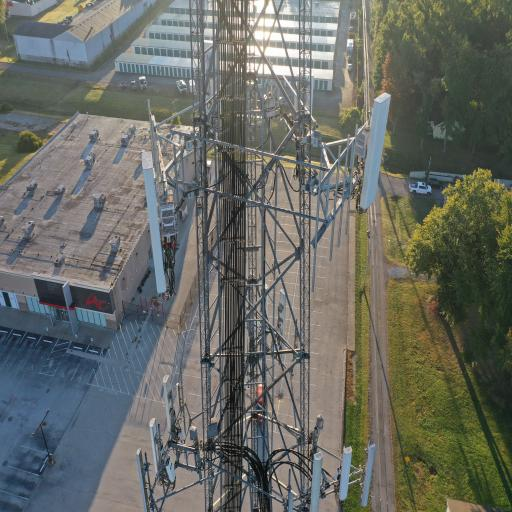supporting_tower: (140, 0, 414, 512)
